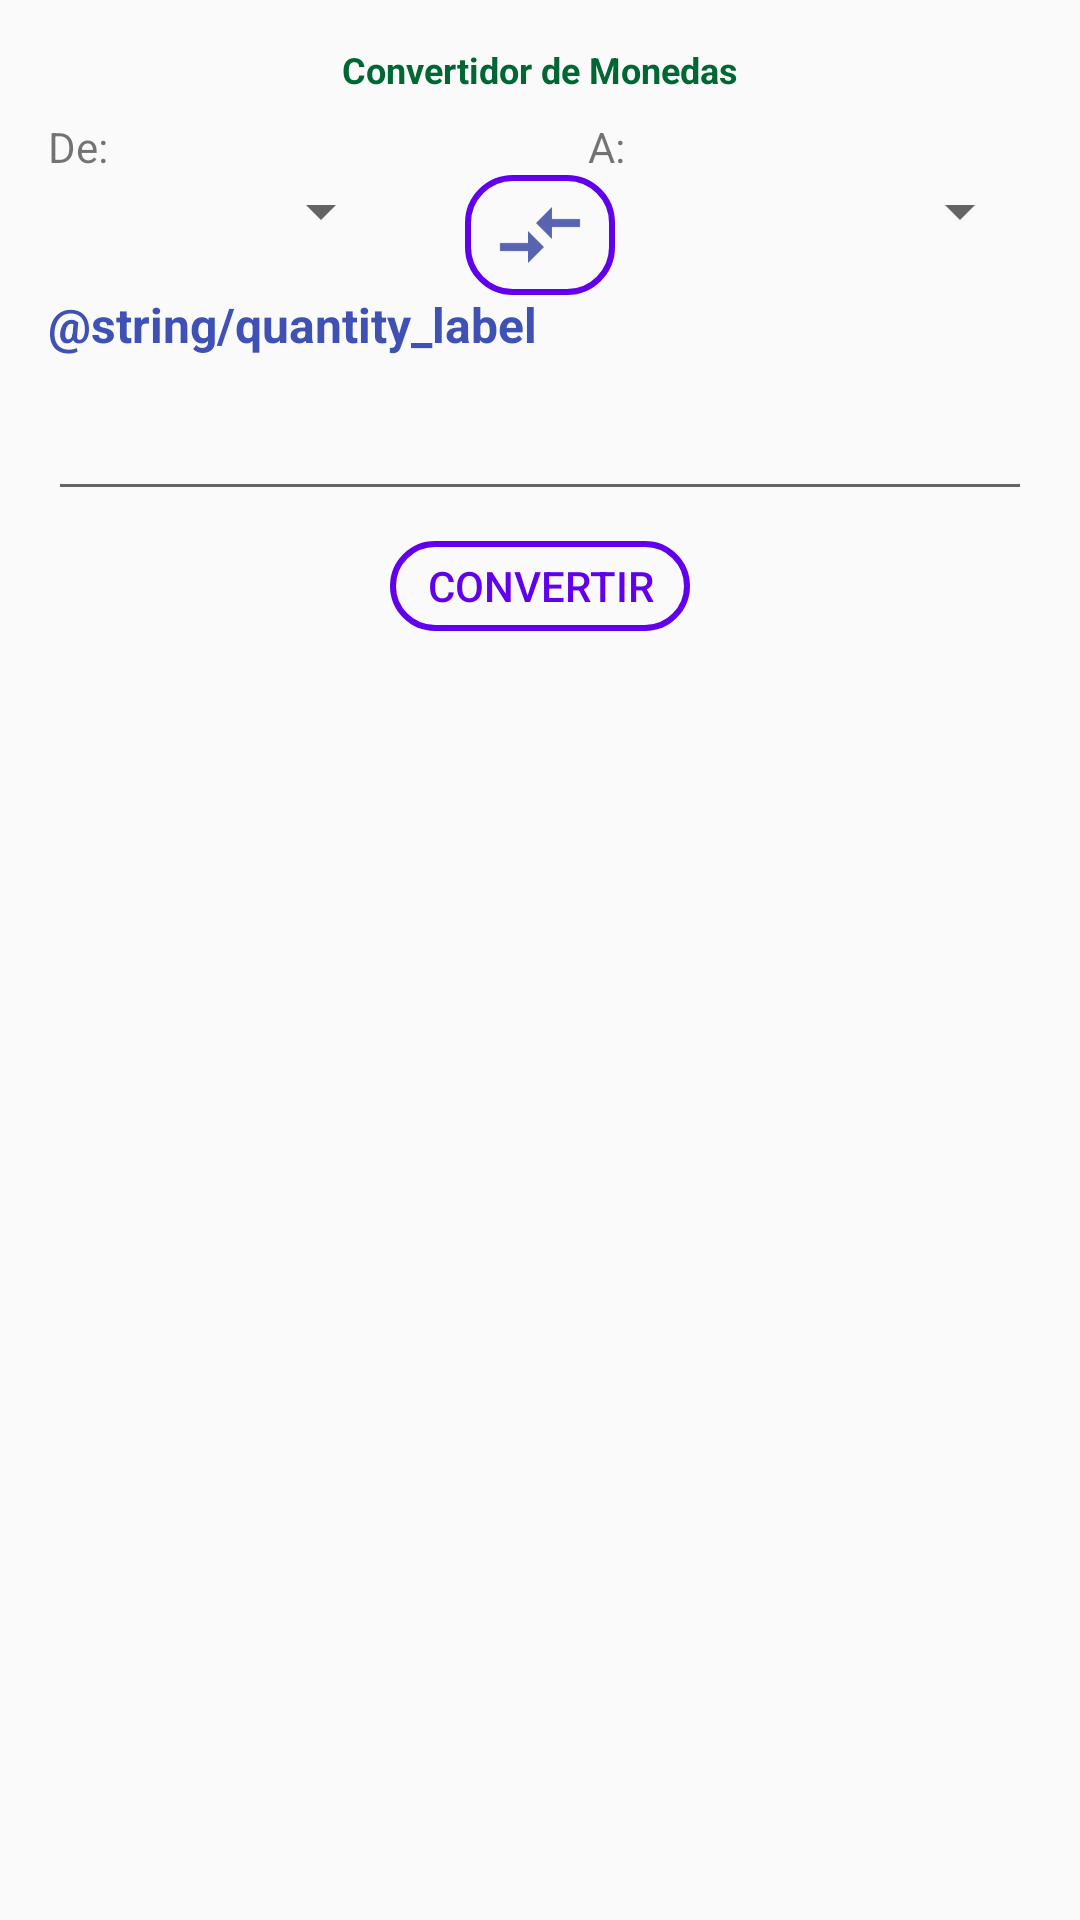

Named icons in this screenshot (1080w x 1920h) and their centers, (x=x, y=y):
exchange arrow: (x=540, y=235)
